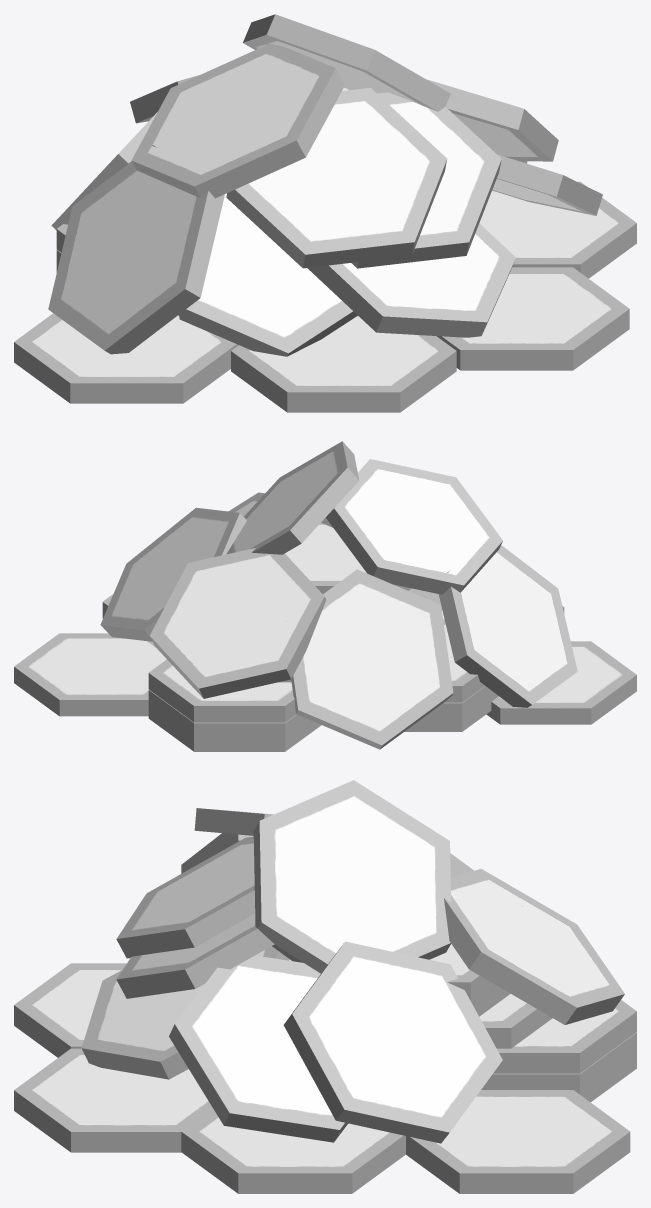
The model's file is HexHeap.fbx.
3 views of the same model, one above another, from view 1: azimuth 30°, elevation 25°; view 2: azimuth 150°, elevation 25°; view 3: azimuth 270°, elevation 25° (orthographic). The views are drawn at different scales.
Parts seen in each view (by area): view 1: HexLowPoly; view 2: HexLowPoly; view 3: HexLowPoly.
Boxes of the visible parts, x1=… form: HexLowPoly: x1=14, y1=14, x2=636, y2=412; HexLowPoly: x1=14, y1=441, x2=636, y2=751; HexLowPoly: x1=14, y1=780, x2=636, y2=1193.
Size of the model in its own units: 600 by 259 by 547.
Materials: 1 (1 with a texture image).
